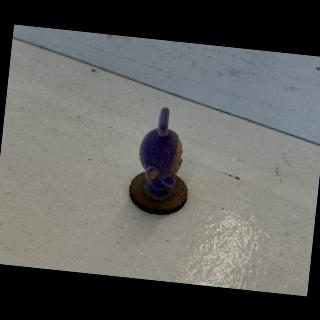teletubby: (139, 107, 182, 195)
